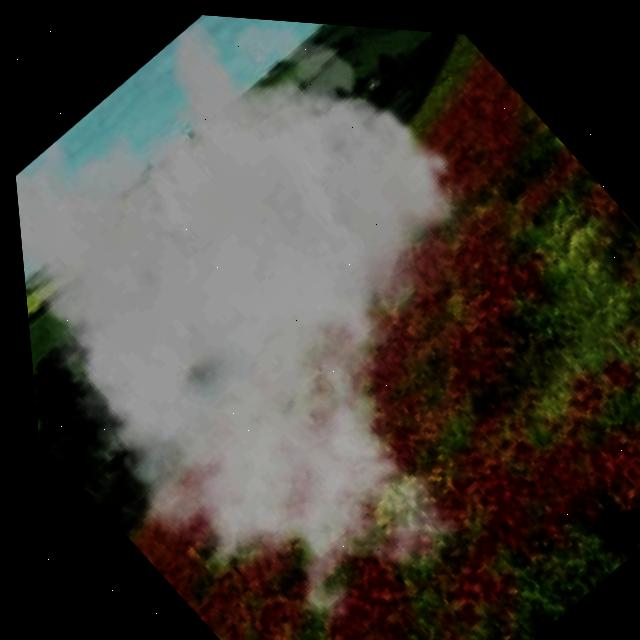Smoke: (12, 12, 640, 640)
